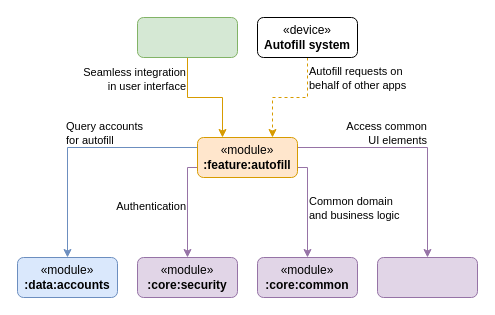
The diagram is 495 pixels wide and 315 high, and some of its shapes have lost their labels. Each missing label, with the centre of its shape:
«module» :app: the point at 187,37
«module» :core:ui: the point at 427,277
